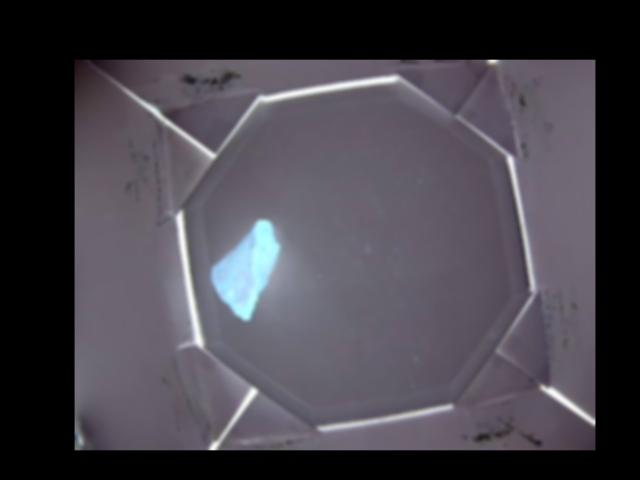Brisk: (211, 219, 279, 319)
